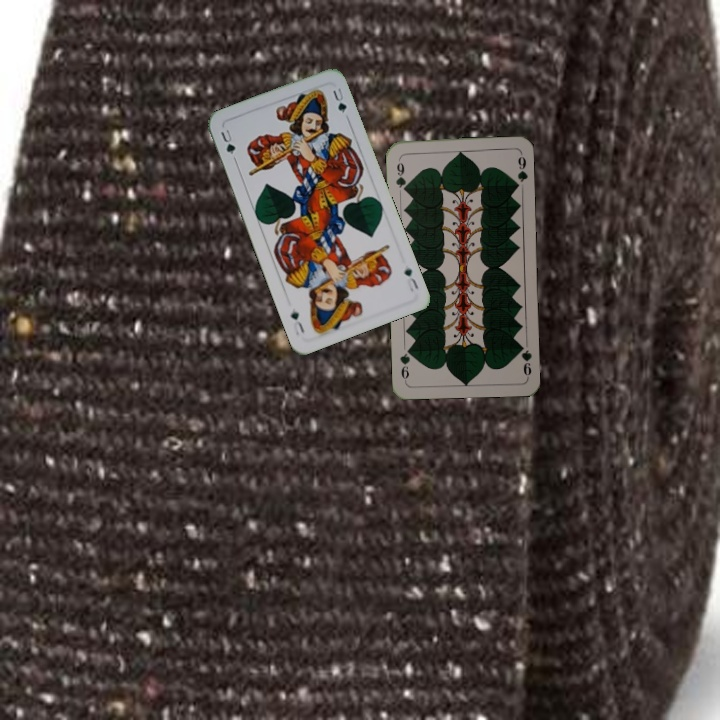G9: (515, 339, 534, 380), (392, 154, 409, 195)
GU: (216, 125, 238, 157), (400, 263, 421, 294)
